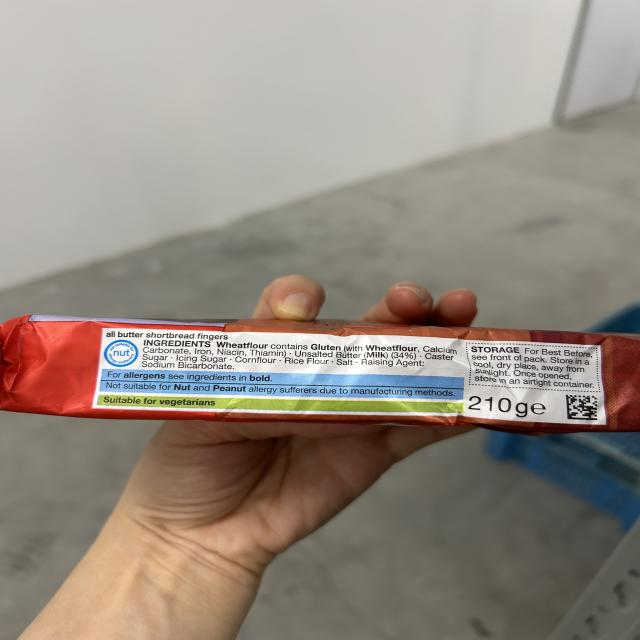object_name: (4, 320, 635, 429)
